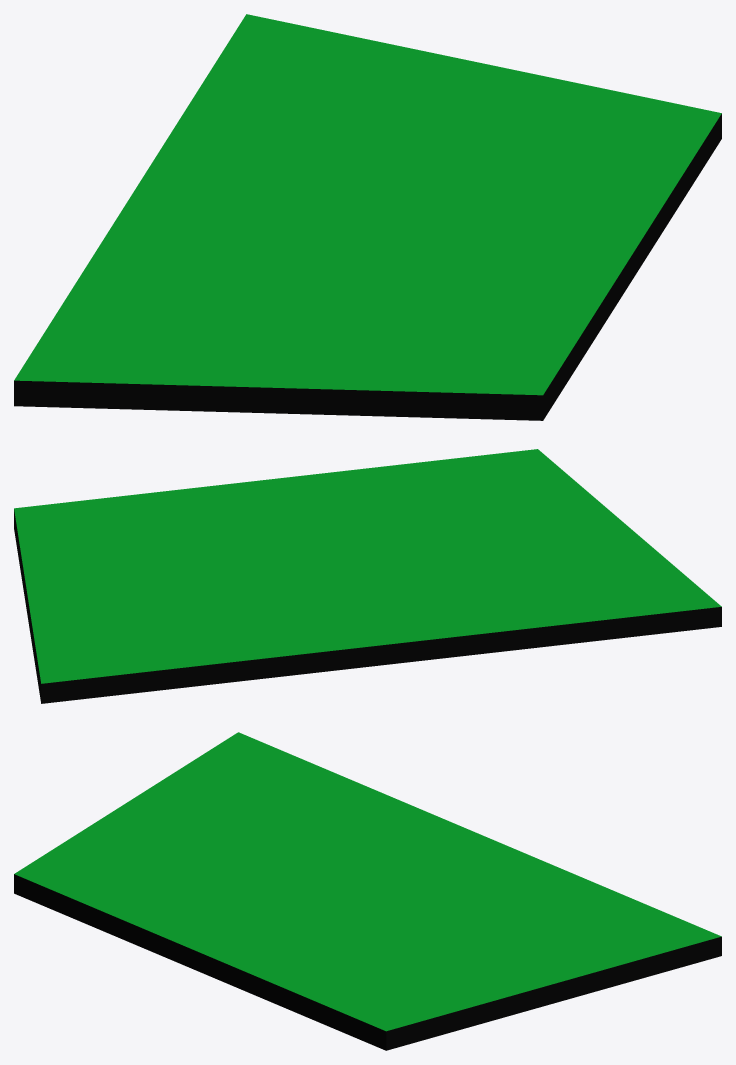
File: Quadrent.fbx
The picture shows the model from 3 angles, top to bottom: view 1: azimuth 30°, elevation 25°; view 2: azimuth 150°, elevation 25°; view 3: azimuth 270°, elevation 25°; orthographic projection. The views are drawn at different scales.
Parts seen in each view (by area): view 1: Quad1; view 2: Quad1; view 3: Quad1.
Part boxes in pixels (<box>): Quad1: <box>14,14,721,420</box>; Quad1: <box>14,449,721,703</box>; Quad1: <box>14,732,721,1050</box>.
Size of the model in its own units: 20.59 by 0.625 by 20.59.
1 material, 1 textured.
